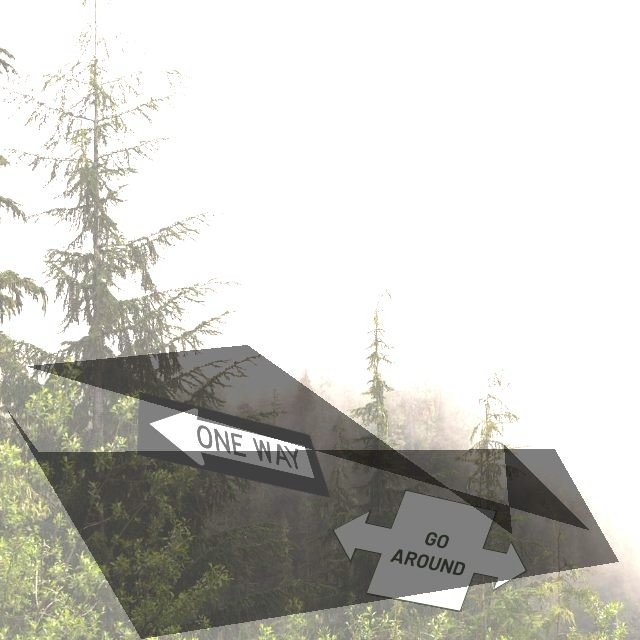GO_AROUND: (332, 489, 527, 612)
ONE_WAY_ left: (136, 391, 331, 498)
